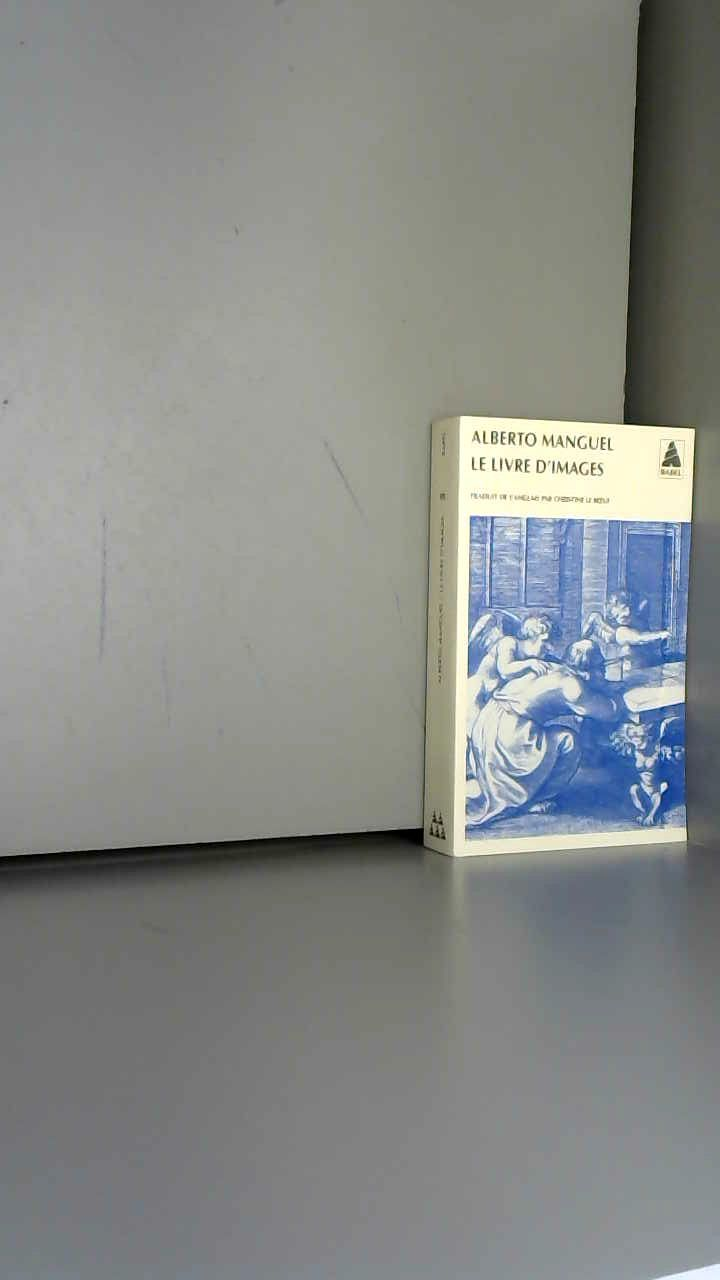book: (430, 390, 720, 881)
